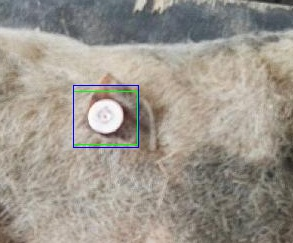text: (73, 91, 137, 144)
